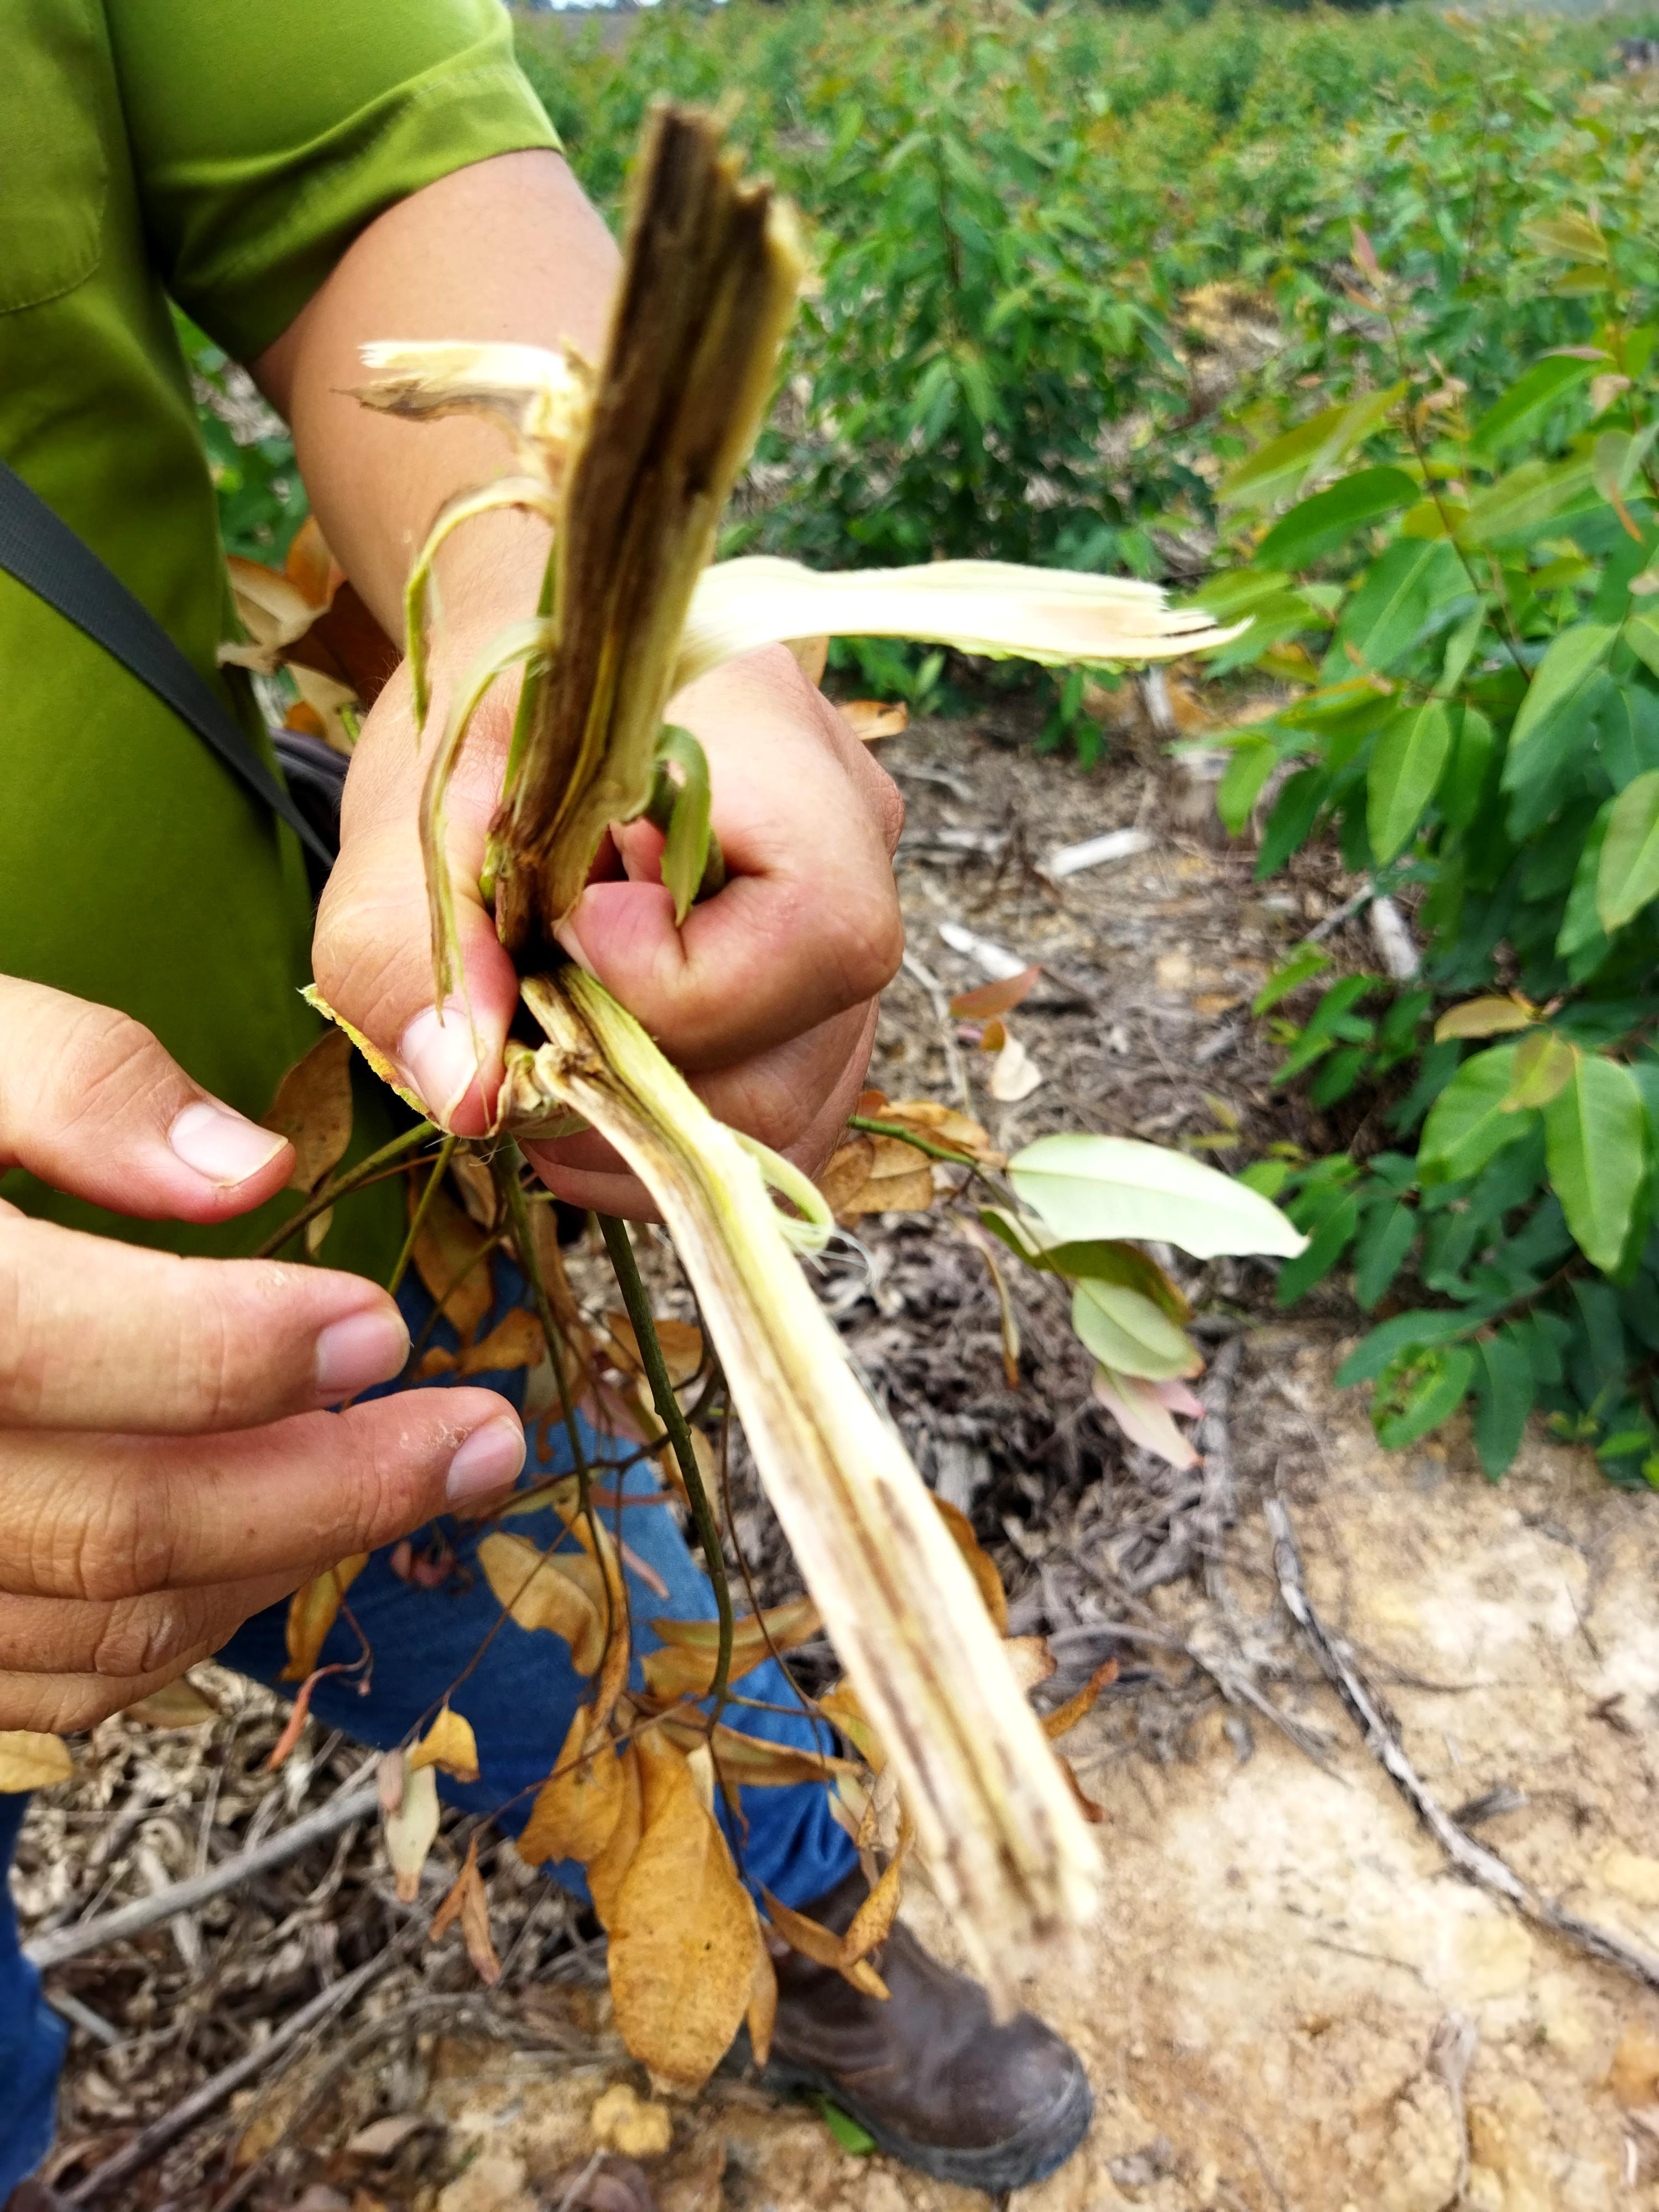Ralstonia: (537, 145, 659, 937), (537, 963, 683, 1115)
